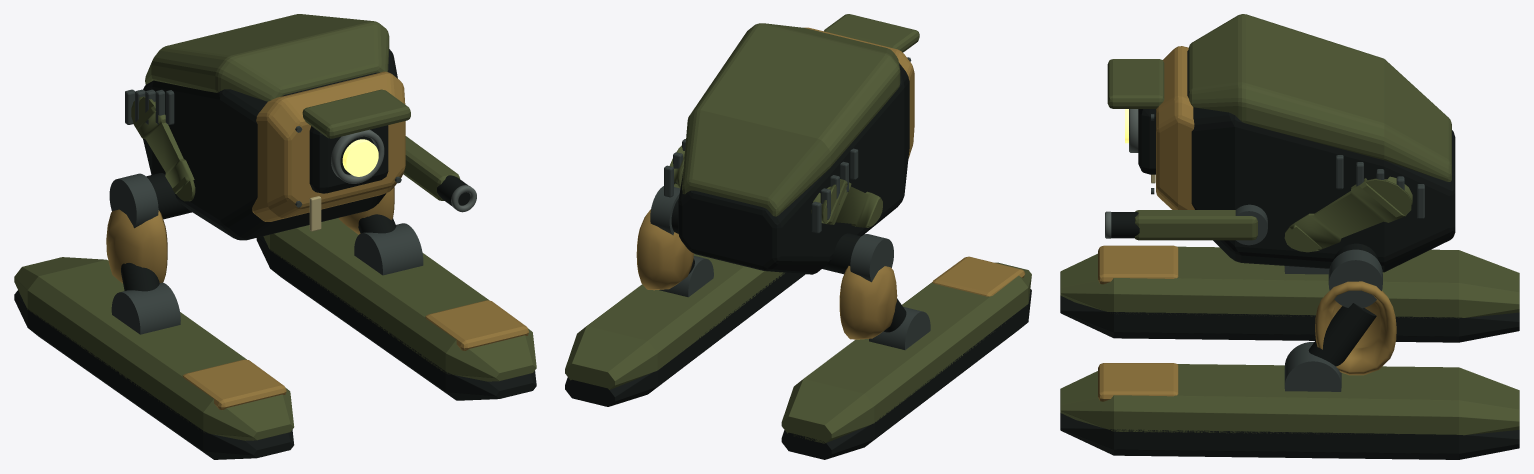
File: DARTER.hi.glb
The picture shows the model from 3 angles, left to right: view 1: azimuth 30°, elevation 25°; view 2: azimuth 150°, elevation 25°; view 3: azimuth 270°, elevation 25°; orthographic projection. The views are drawn at different scales.
Visible parts, largest first — view 1: BodyBank_Mesh, Skate_L_Mesh, Skate_R_Mesh, Suspension_Mesh, ProjectionArm_Mesh; view 2: BodyBank_Mesh, Skate_L_Mesh, Skate_R_Mesh, Suspension_Mesh; view 3: BodyBank_Mesh, Skate_R_Mesh, Skate_L_Mesh, Suspension_Mesh, ProjectionArm_Mesh.
Boxes of the visible parts, x1,y1,x2,y2 form: BodyBank_Mesh: (125,14,410,240); Skate_L_Mesh: (14,257,294,459); Skate_R_Mesh: (256,218,536,400); Suspension_Mesh: (106,173,396,291); ProjectionArm_Mesh: (403,136,476,212); BodyBank_Mesh: (664,14,919,274); Skate_L_Mesh: (781,256,1031,459); Skate_R_Mesh: (565,253,804,406); Suspension_Mesh: (636,186,906,339); BodyBank_Mesh: (1107,14,1455,272); Skate_R_Mesh: (1060,342,1519,459); Skate_L_Mesh: (1060,245,1519,342); Suspension_Mesh: (1308,243,1396,375); ProjectionArm_Mesh: (1105,204,1267,245).
Size of the model in its own units: 1.07 by 1.06 by 1.29.
